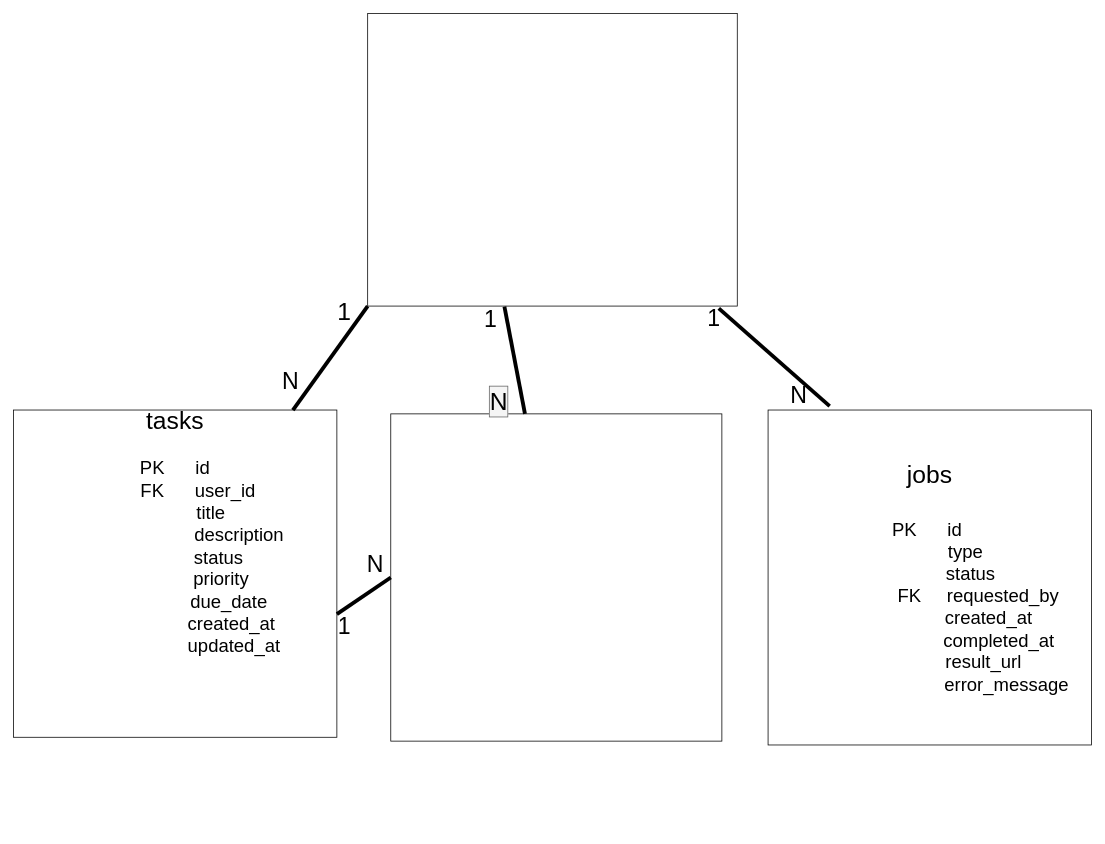
The diagram is 1105 pixels wide and 844 high, and some of its shapes have lost their labels. Here are the shapes that lost their labels. From the top down, the centre of each, then its label:
the point at 552,159: users Pk id n ame email password_hash role updated_at created_at
the point at 556,577: comments Pk id FK task_id FK user_id content created_at updated_at
